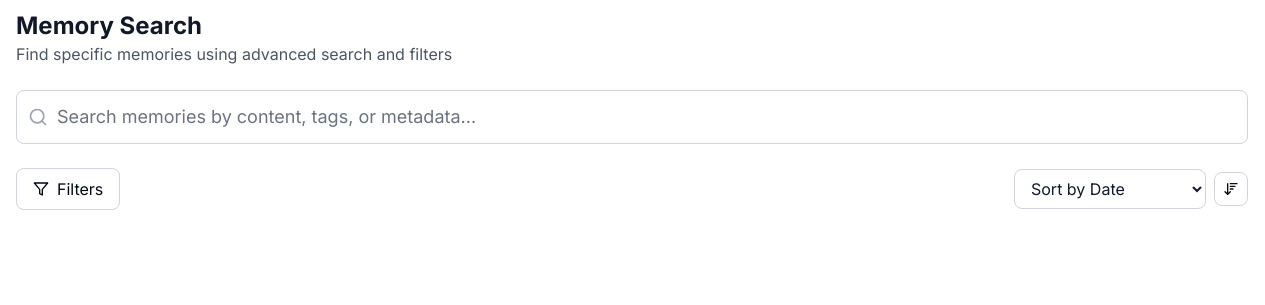
Test: MemorySearch › Results Display › should display no results message when appropriate
Note: Simulate a search to trigger the no results message
Type "test query" into the field with test id "memory-search-input".
click(632, 117); type("test query")  # box 16,90 -> 1248,144
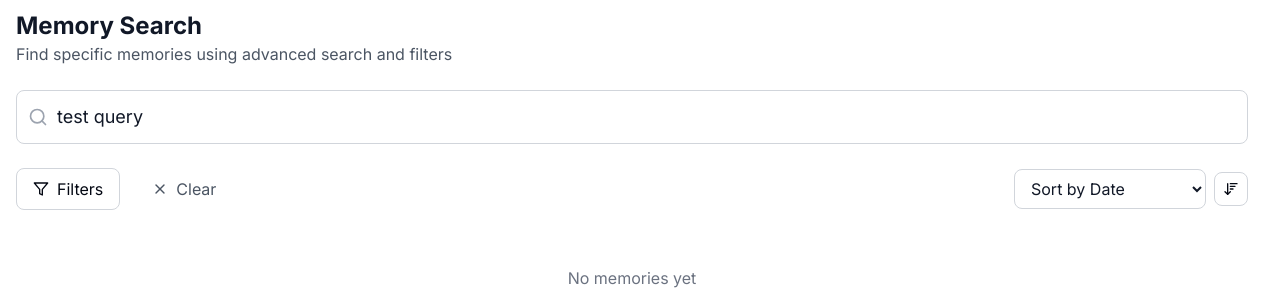
Check: the text "No memories yet" is shown, box 568,268 -> 696,288
